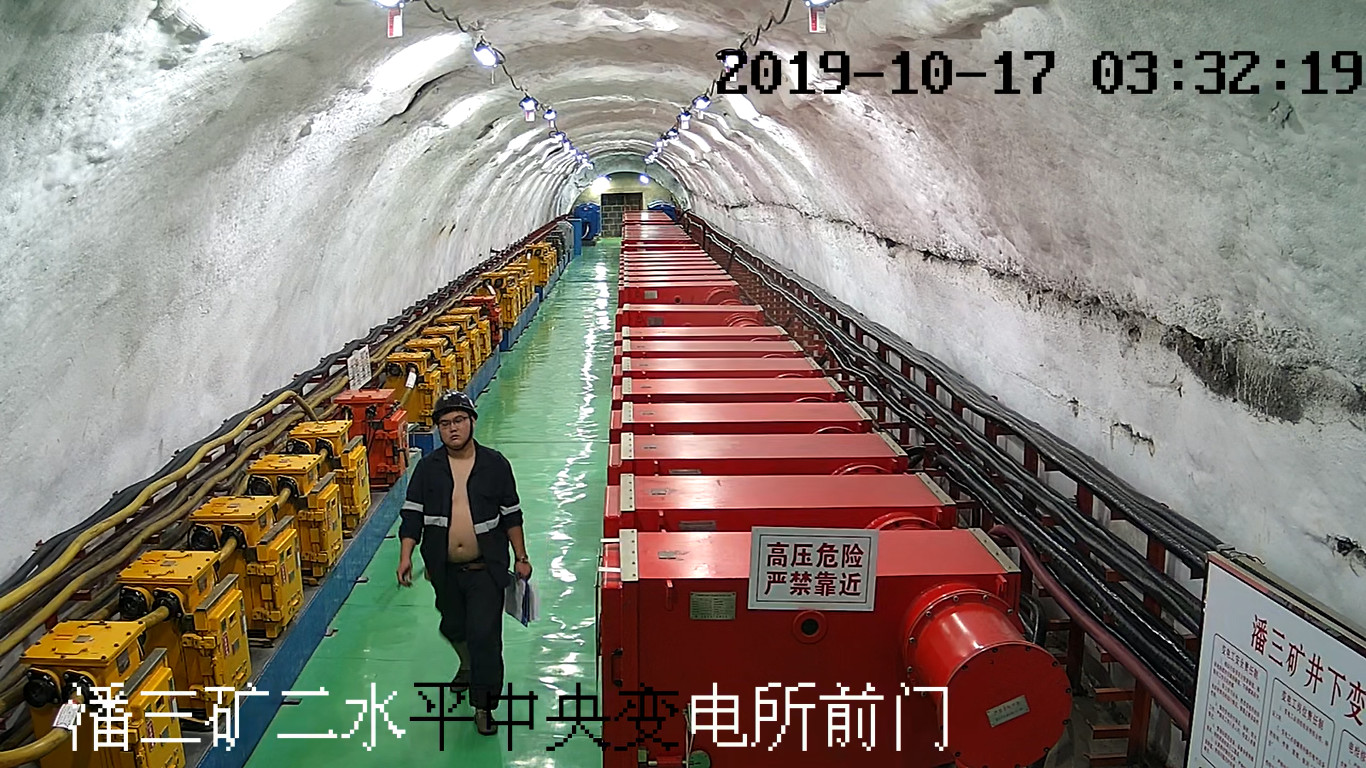helmet: (432, 390, 478, 425)
